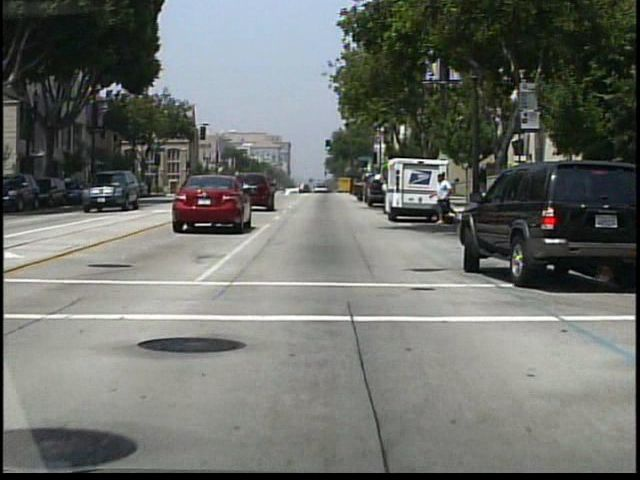person: (427, 171, 454, 225), (353, 174, 370, 205)
